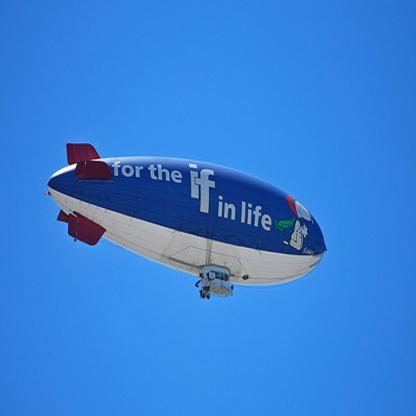Airship: (32, 129, 332, 302)
